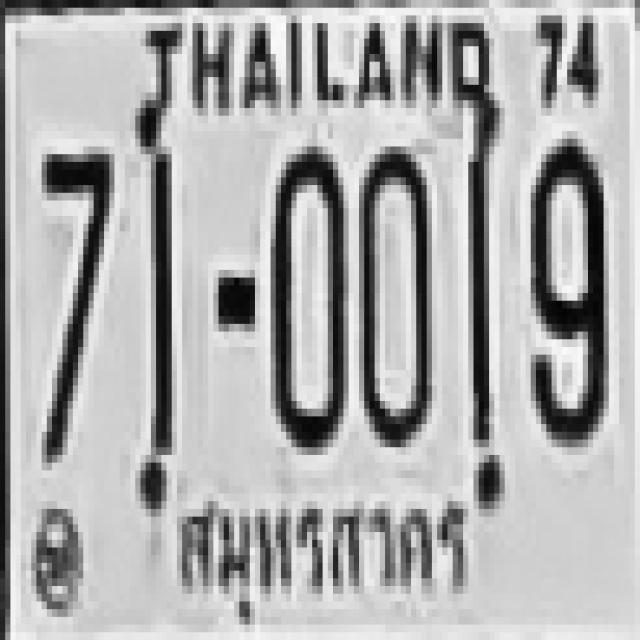0: (270, 143, 344, 451), (356, 143, 429, 443)
7: (36, 146, 110, 455), (36, 150, 110, 412), (36, 146, 110, 347)
9: (526, 131, 604, 440)
SamutSakhon: (166, 484, 472, 628)
